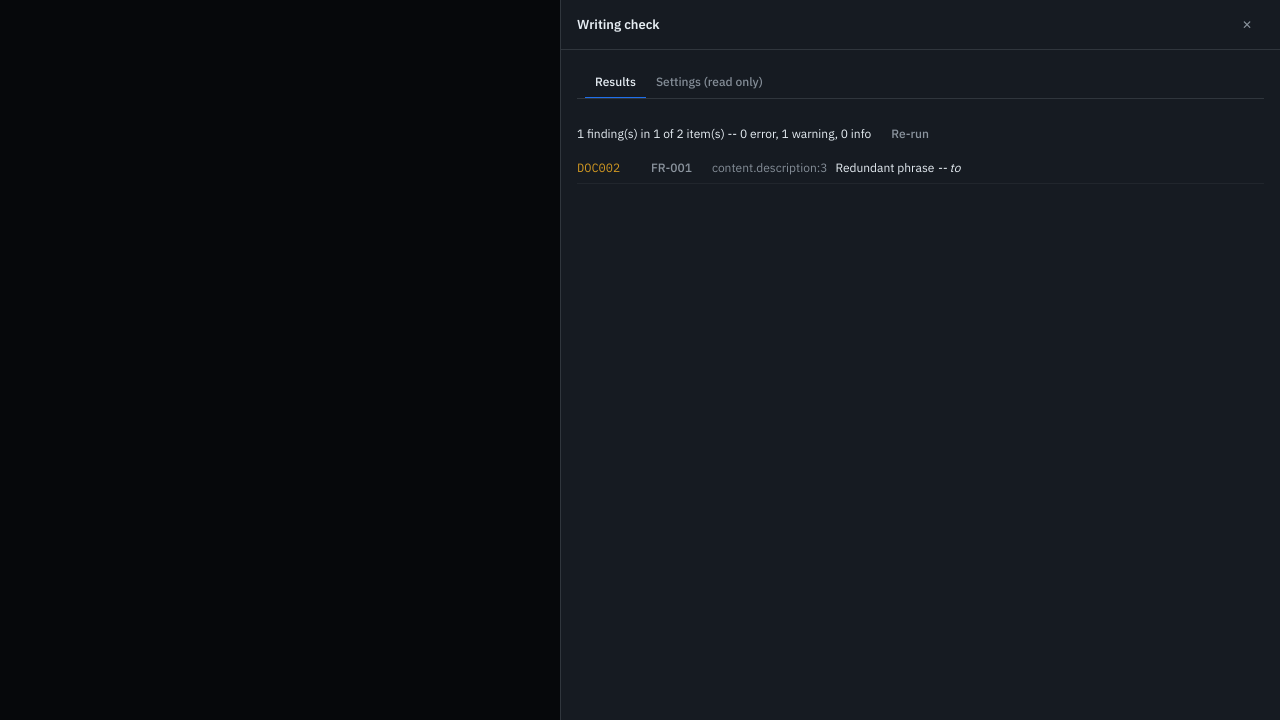
WritingCheckPanel › shows the settings but not the save button to everyone else
What coordinates should you click on to do the following:
click the button "Settings (read only)"
I would click on:
 (709, 82)
Its box is x1=646 y1=66 x2=773 y2=99.
(page scrolled)
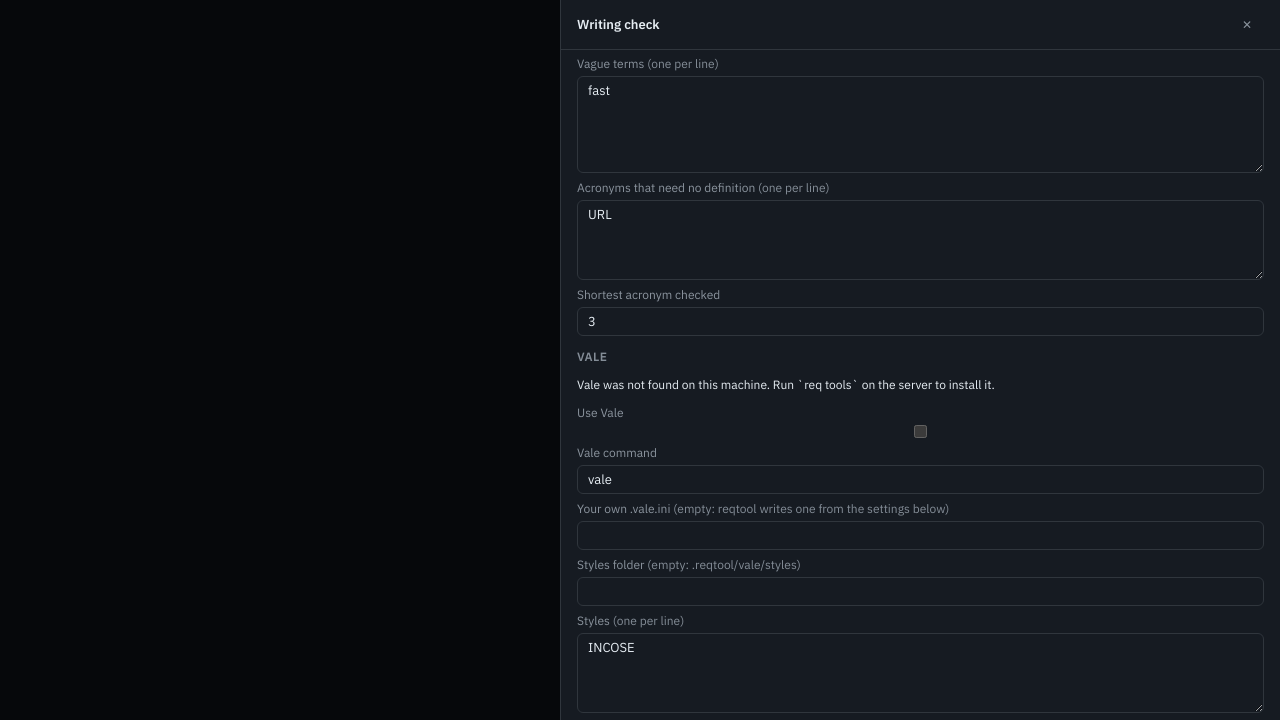
Now the text with test id "vale-status" shows "Vale was not found", box x1=577 y1=377 x2=995 y2=392
